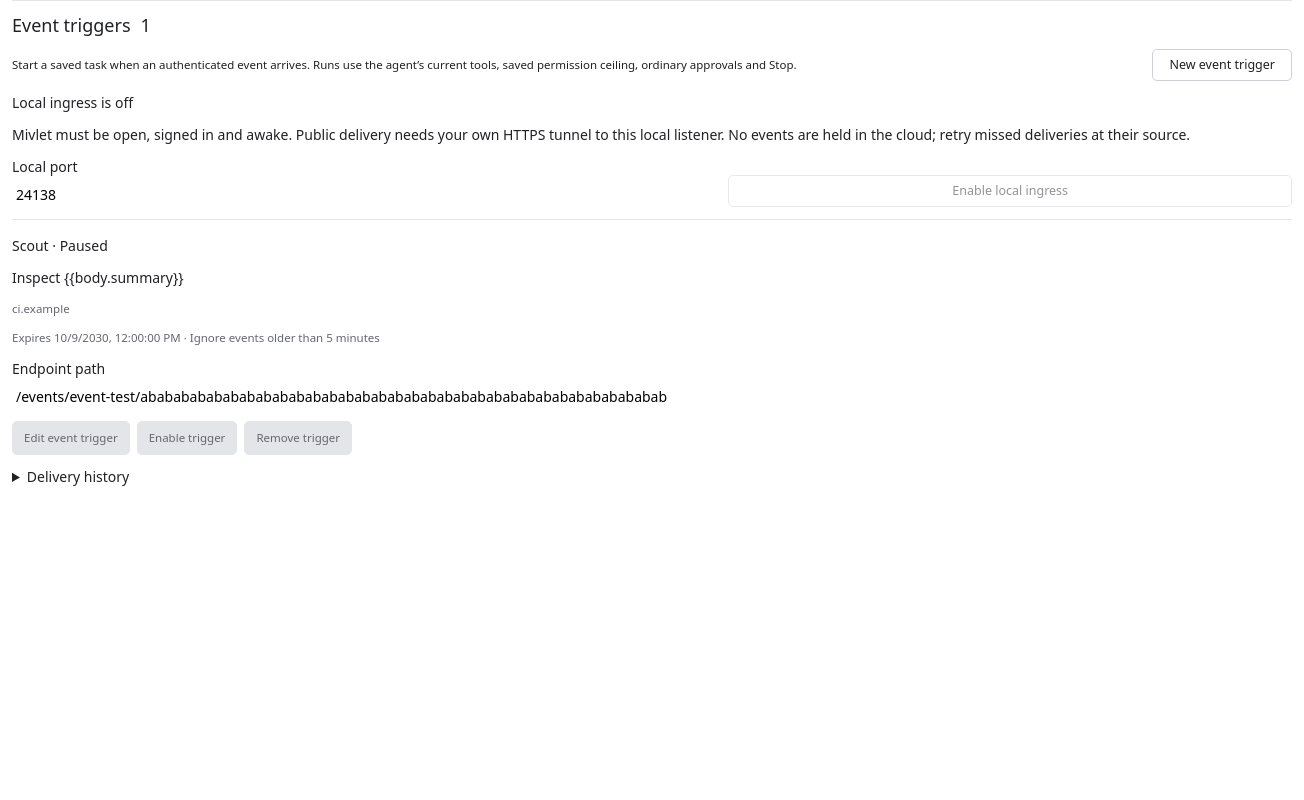
Event automations › preserves the saved route and refuses a disconnected provider
Click the button "Edit event trigger".
click(71, 438)  # box [12,420,130,454]
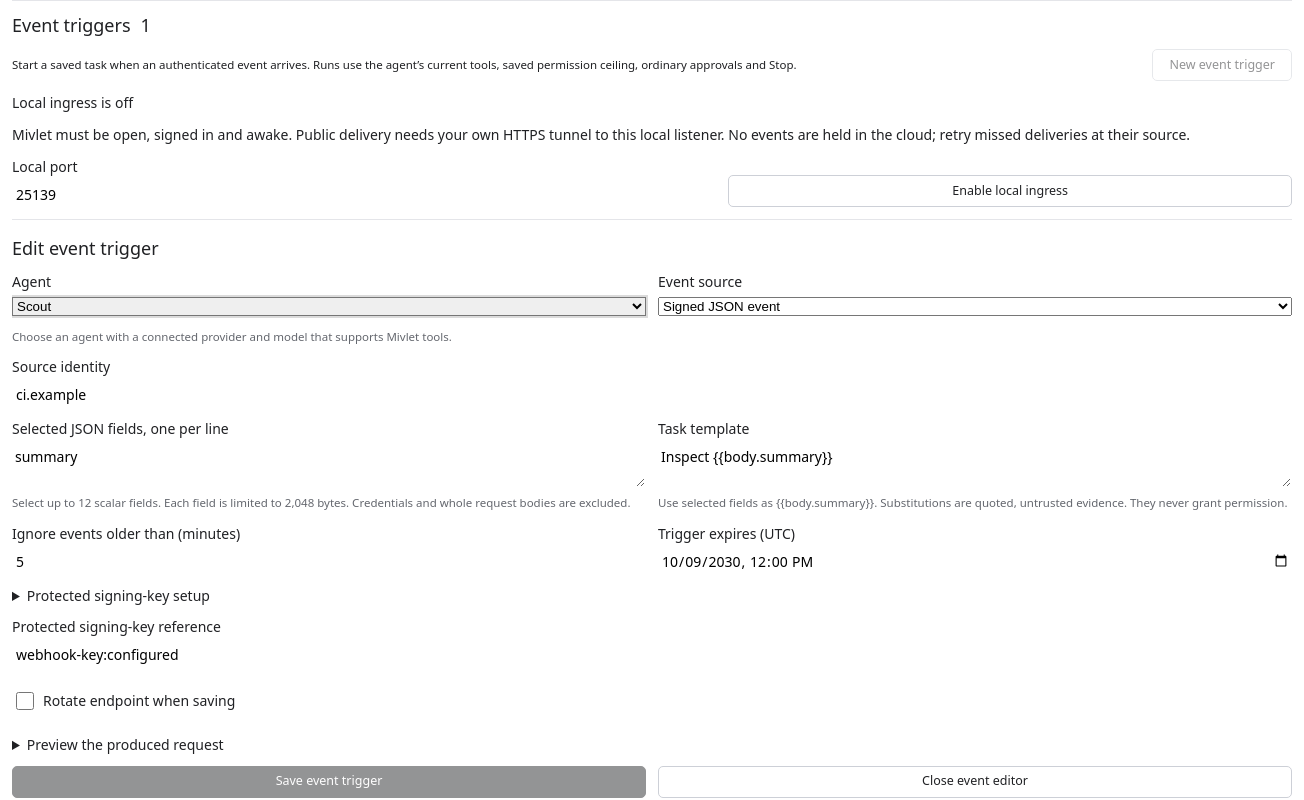
Result: the button "Save event trigger" is disabled at [12,766,646,798]
Result: the text "Choose an agent with a connected provider" is shown at [12,329,452,344]
